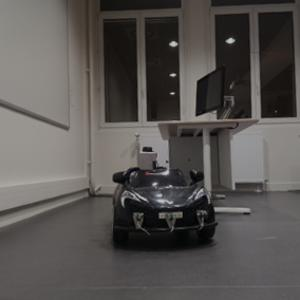big: (109, 166, 218, 248)
